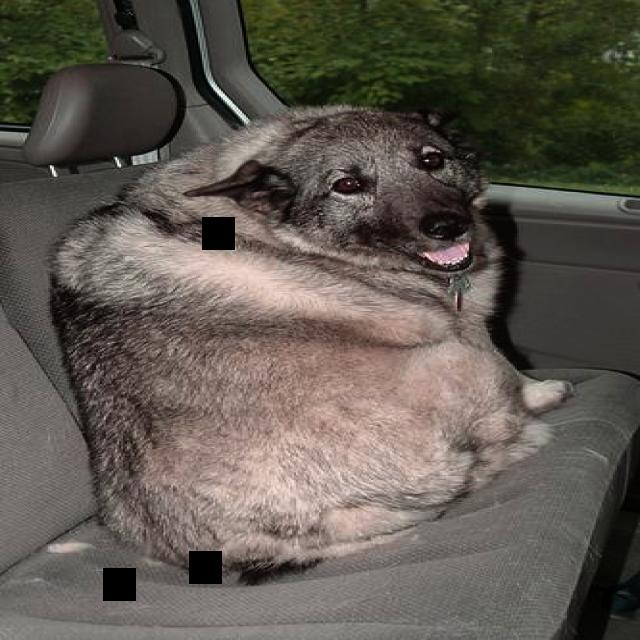adult_dog: (44, 102, 577, 580)
